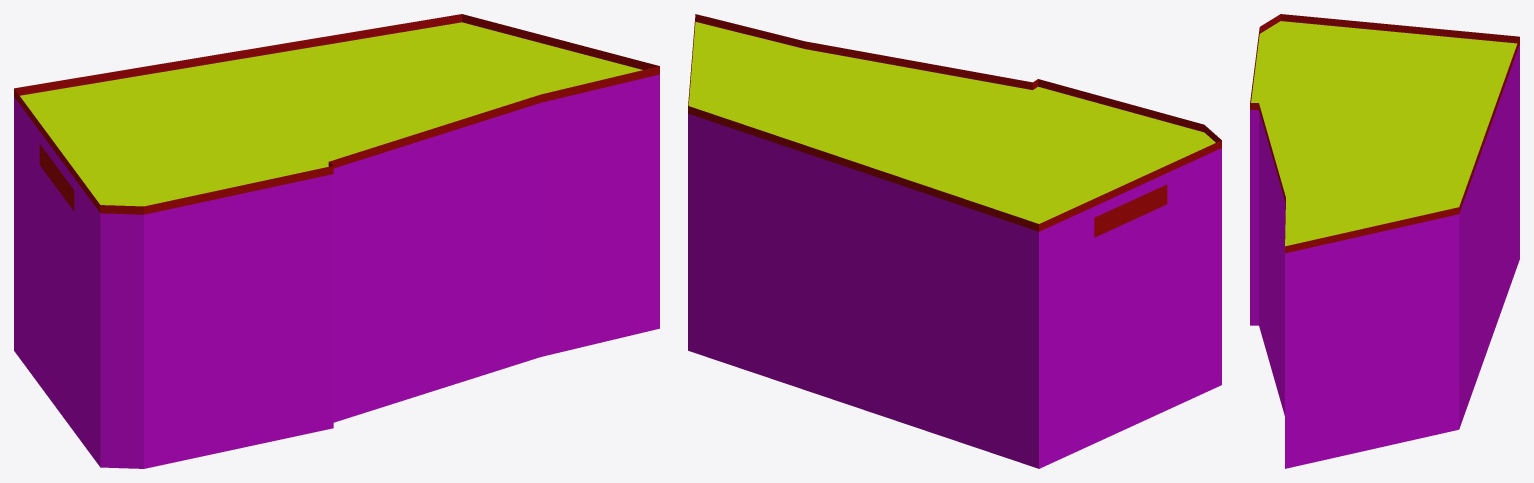
Rendered from bgj_282.glb.
3 renders of one model, left to right at view 1: azimuth 30°, elevation 25°; view 2: azimuth 150°, elevation 25°; view 3: azimuth 270°, elevation 25°, orthographic. The views are drawn at different scales.
Parts seen in each view (by area): view 1: bgj_282; view 2: bgj_282; view 3: bgj_282.
Part boxes in pixels (bbox=[...]): bgj_282: bbox=[14, 14, 659, 468]; bgj_282: bbox=[688, 14, 1221, 468]; bgj_282: bbox=[1250, 14, 1519, 468].
Bounding box in the file's own units: 24.69 × 11.03 × 12.12.
